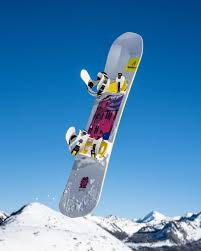snowboard: (57, 31, 146, 220)
